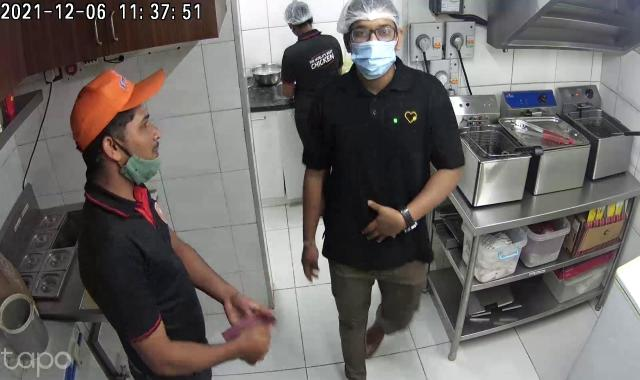hairnet: (341, 0, 408, 39), (278, 1, 315, 27)
no_hairnet: (66, 57, 170, 153)
